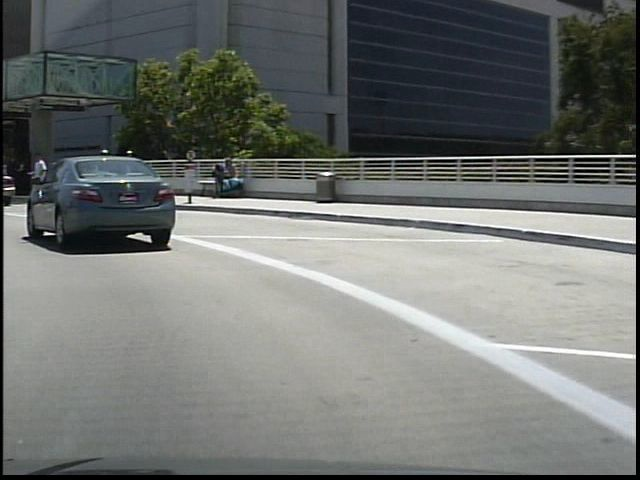person: (23, 151, 48, 210), (117, 147, 139, 202), (91, 145, 112, 200)
